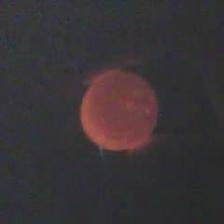infertile: (76, 66, 161, 152)
